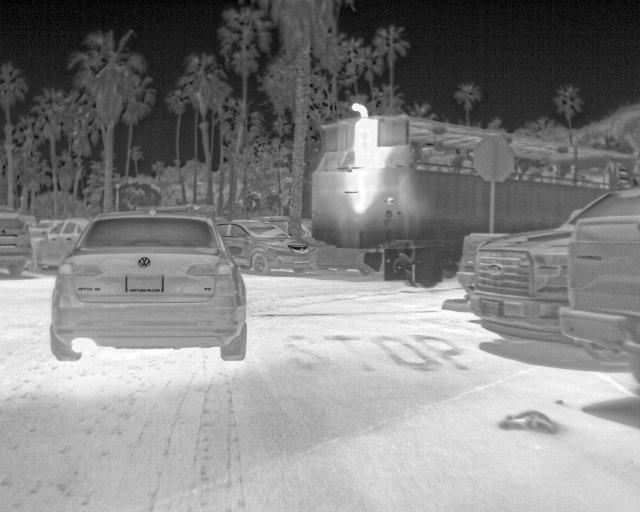bicycle: (51, 208, 248, 367), (473, 187, 636, 367), (562, 213, 638, 393), (220, 223, 314, 276), (29, 218, 91, 271), (458, 230, 507, 291), (3, 211, 35, 277)
